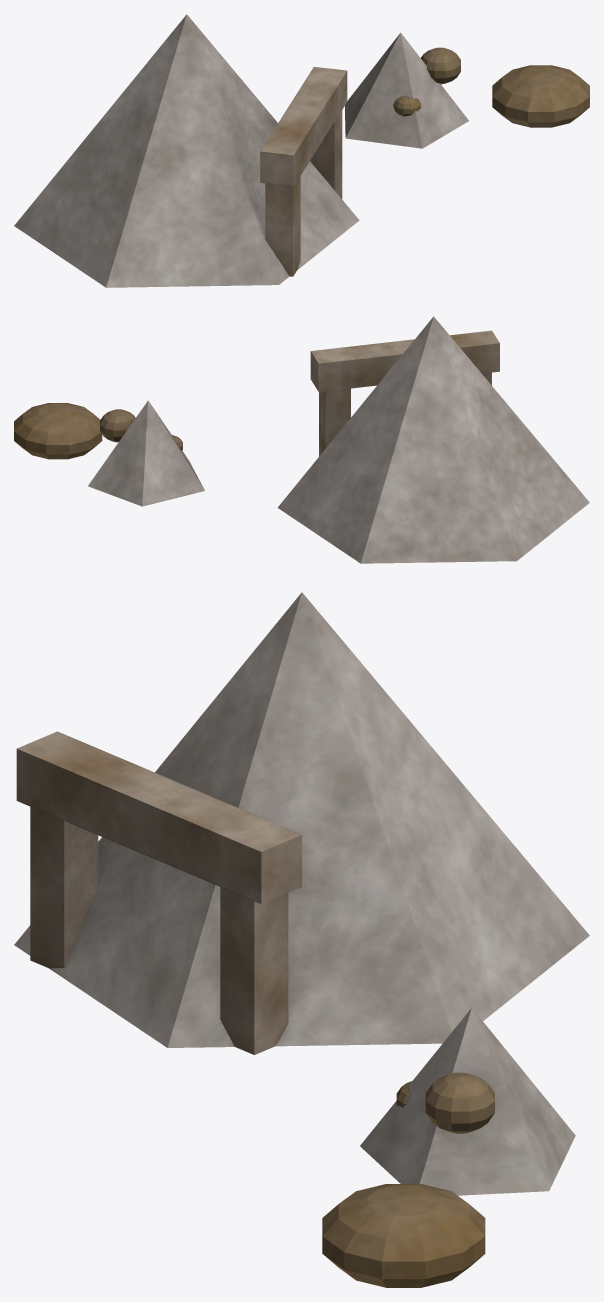
File: res_iron_2.glb
3 views of the same model, one above another, from view 1: azimuth 30°, elevation 25°; view 2: azimuth 150°, elevation 25°; view 3: azimuth 270°, elevation 25° (orthographic). The views are drawn at different scales.
Visible parts, largest first — view 1: dilek; view 2: dilek; view 3: dilek.
Part boxes in pixels (x1,y1,x2,y2): dilek: (14,14,589,287); dilek: (14,316,589,563); dilek: (14,592,589,1287).
Size of the model in its own units: 1.12 by 0.425 by 0.5996.
1 material, 1 textured.
